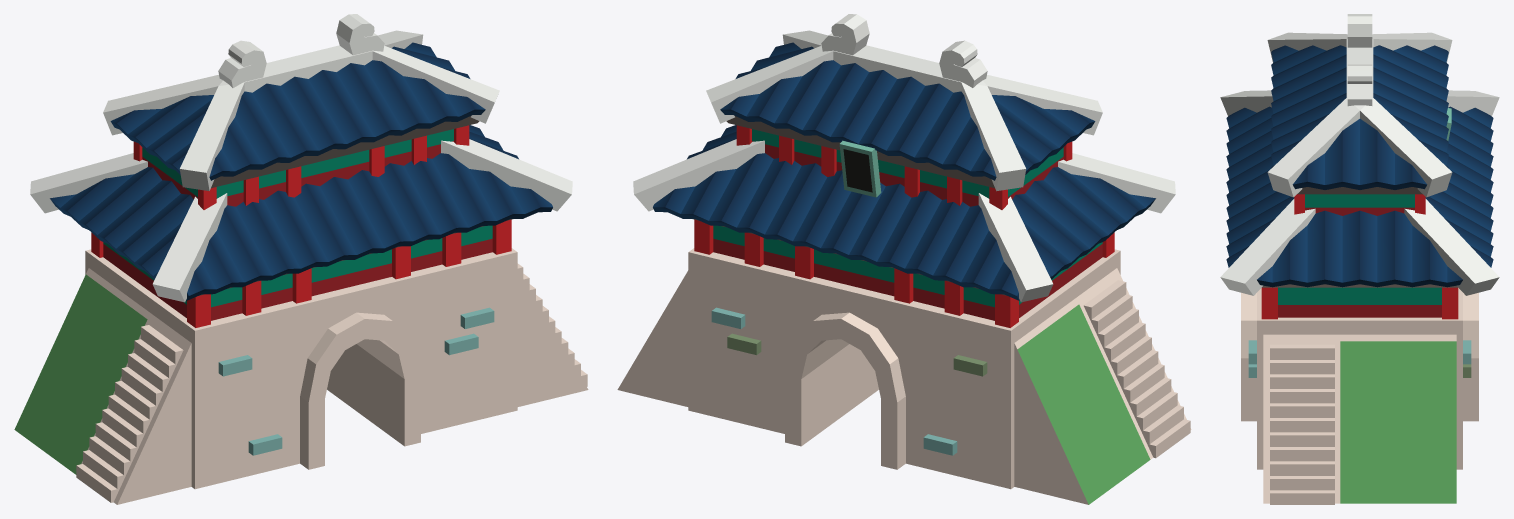
File: sungnyemunGate.FBX
The picture shows the model from 3 angles, left to right: view 1: azimuth 30°, elevation 25°; view 2: azimuth 150°, elevation 25°; view 3: azimuth 270°, elevation 25°; orthographic projection. The views are drawn at different scales.
Parts seen in each view (by area): view 1: sungnyemunGate; view 2: sungnyemunGate; view 3: sungnyemunGate.
Boxes of the visible parts, box(x1,y1,x2,y2) form: sungnyemunGate: box(14, 14, 588, 504); sungnyemunGate: box(617, 14, 1191, 504); sungnyemunGate: box(1220, 14, 1499, 504).
Bounding box in the file's own units: 6.77 × 5.12 × 3.66.
